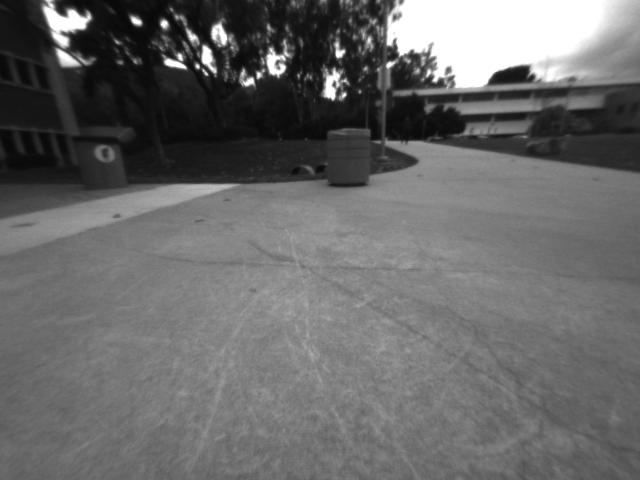trashcan: (73, 132, 129, 192), (325, 126, 371, 189)
